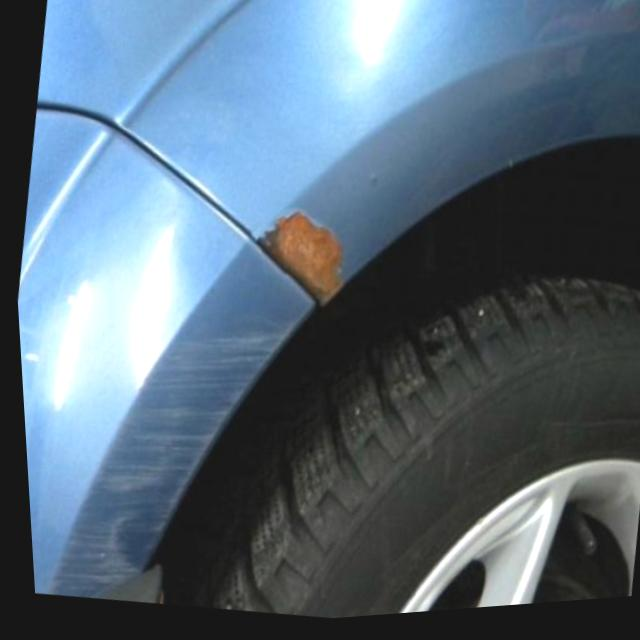Rust: (254, 205, 348, 309)
